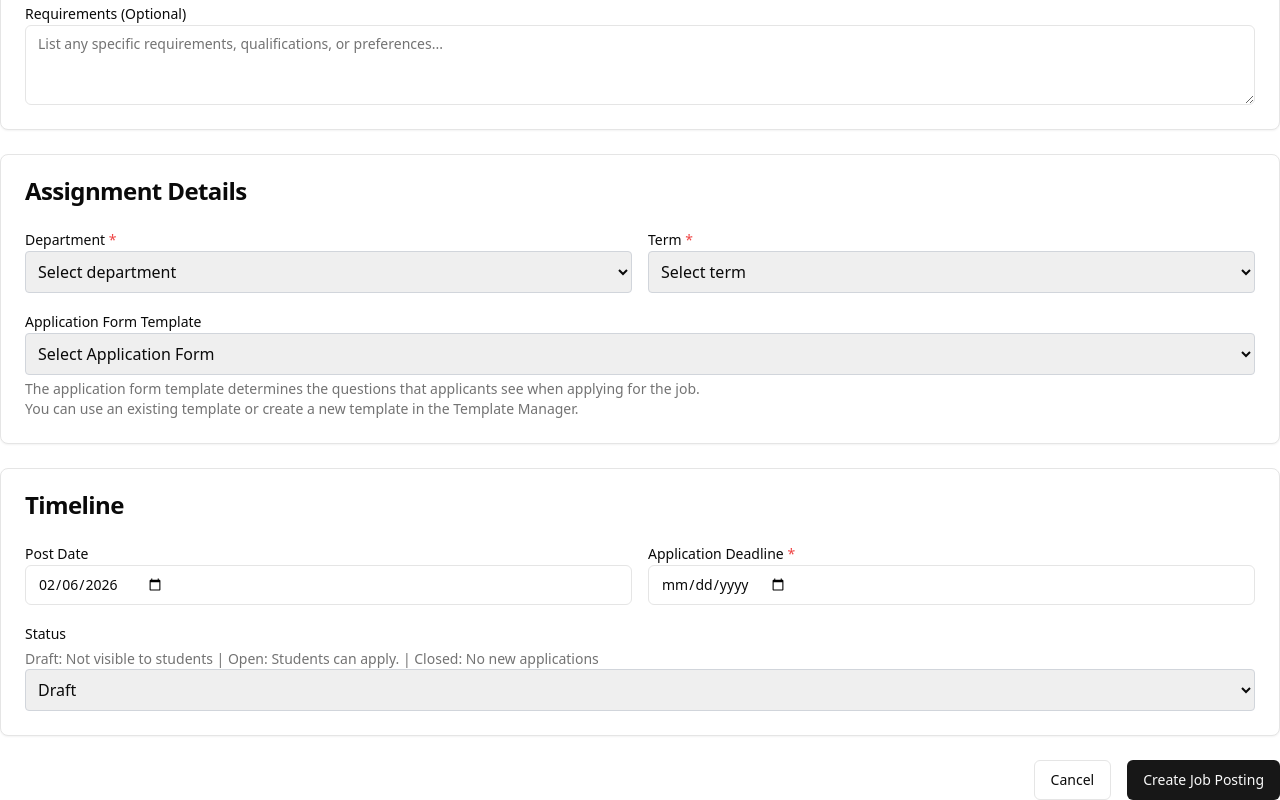
it: JobPostingForm › displays validation errors when form is invalid
This screenshot has width=1280, height=800.
(page scrolled)
Click the button "Create Job Posting" at point(1204, 780), box [1127,760,1279,799]
(page scrolled)
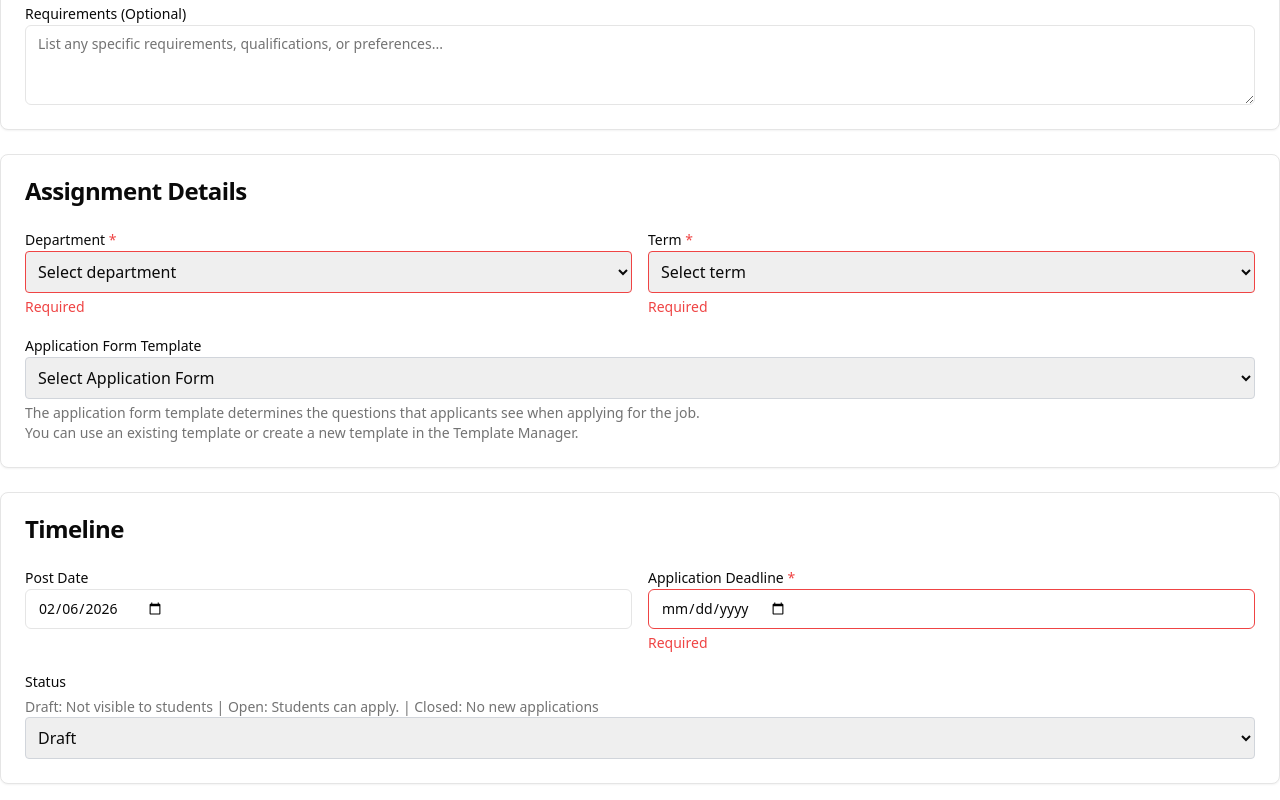
expect the text "Required" is shown 5 times: met
